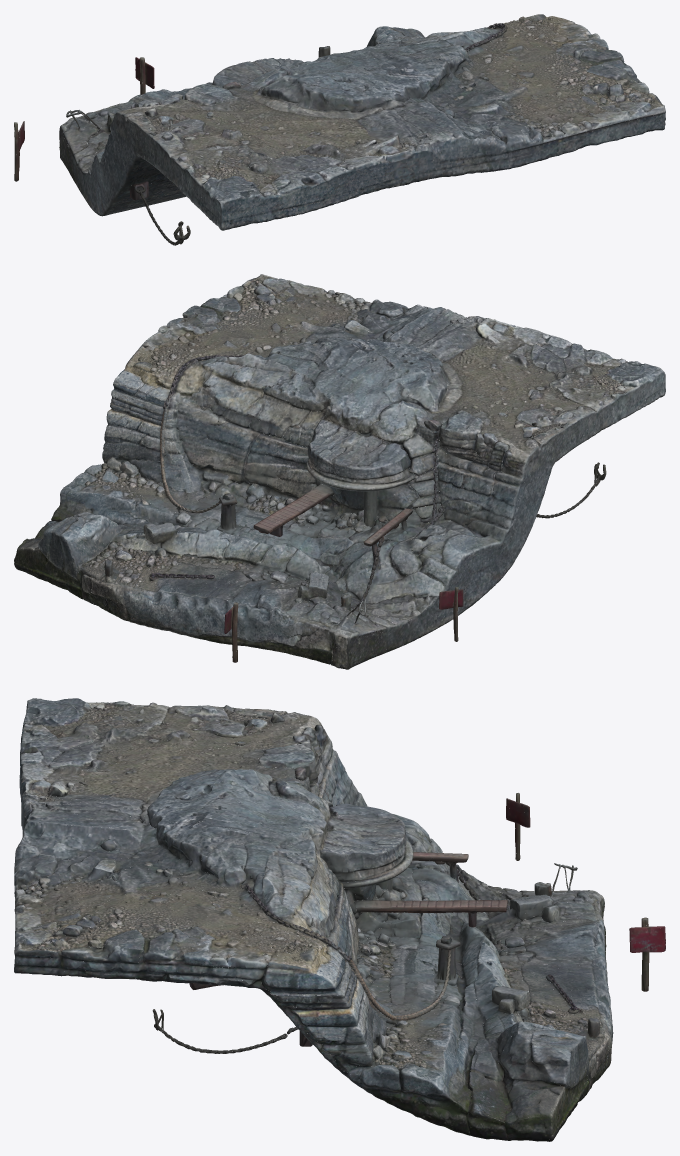
File: tripo_cliff_detail_lod.glb
3 views of the same model, one above another, from view 1: azimuth 30°, elevation 25°; view 2: azimuth 150°, elevation 25°; view 3: azimuth 270°, elevation 25° (orthographic). The views are drawn at different scales.
Visible parts, largest first — view 1: tripo_node_c208bfbe-679c-44be-ada5-413d24336af9; view 2: tripo_node_c208bfbe-679c-44be-ada5-413d24336af9; view 3: tripo_node_c208bfbe-679c-44be-ada5-413d24336af9.
Boxes of the visible parts, x1,y1,x2,y2 form: tripo_node_c208bfbe-679c-44be-ada5-413d24336af9: (14, 14, 665, 245); tripo_node_c208bfbe-679c-44be-ada5-413d24336af9: (14, 274, 665, 669); tripo_node_c208bfbe-679c-44be-ada5-413d24336af9: (14, 698, 665, 1141).
Bounding box in the file's own units: 0.9369 × 0.3488 × 0.9814.
Materials: 1 (1 with a texture image).
